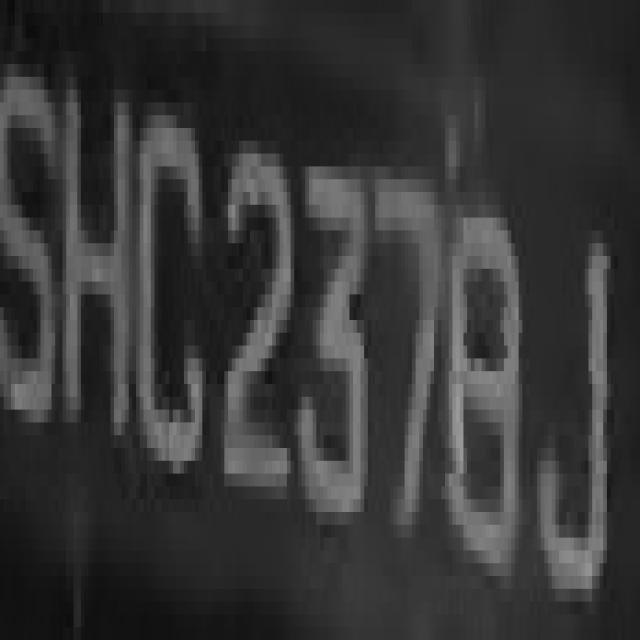2: (210, 102, 294, 525)
3: (290, 102, 372, 538)
7: (368, 141, 441, 563)
9: (438, 128, 526, 602)
C: (133, 102, 210, 486)
H: (51, 38, 132, 461)
J: (526, 218, 618, 614)
S: (0, 38, 59, 461)
